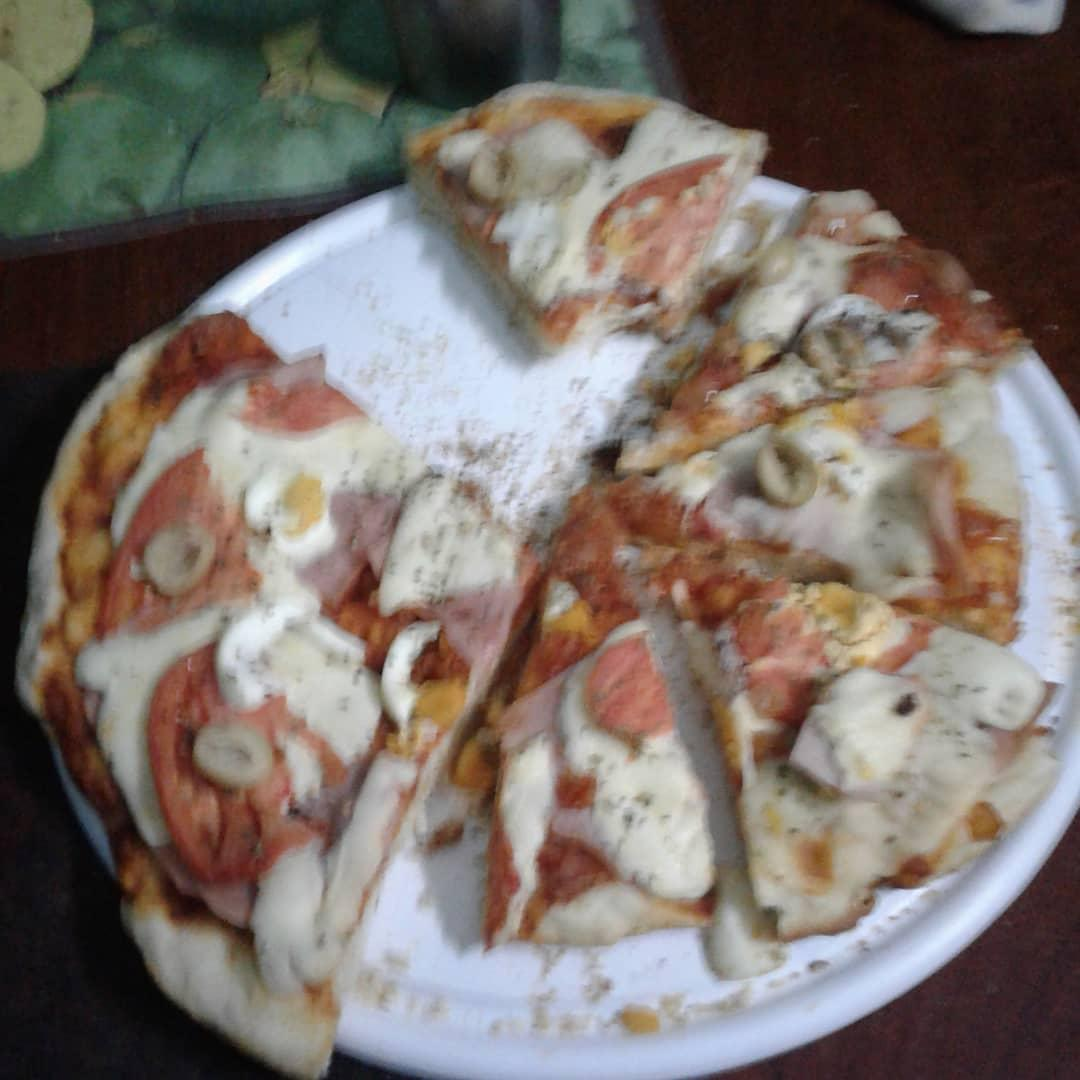Ham: (330, 491, 401, 571), (439, 590, 513, 661), (505, 681, 562, 754)
Olives: (756, 438, 818, 506), (804, 327, 867, 386), (464, 144, 517, 204)
Pizza: (0, 88, 1080, 1080)
Tomatoes: (144, 640, 349, 886), (96, 451, 262, 640), (589, 156, 724, 291), (589, 638, 678, 735)
